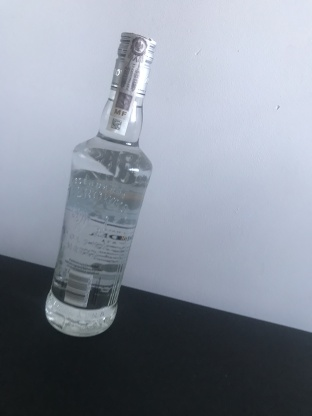nakretka: (108, 29, 157, 100)
